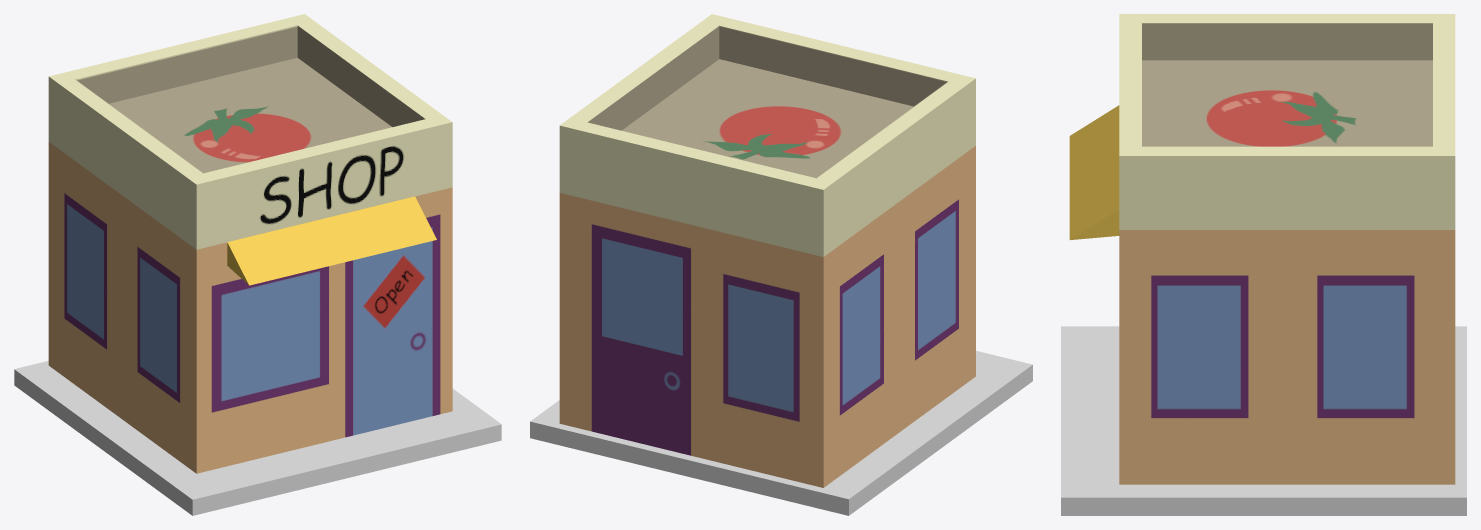
Rendered from Shop01_1.FBX.
3 renders of one model, left to right at view 1: azimuth 30°, elevation 25°; view 2: azimuth 150°, elevation 25°; view 3: azimuth 270°, elevation 25°, orthographic. The views are drawn at different scales.
Visible parts, largest first — view 1: Plane001, Box001; view 2: Plane001, Box001; view 3: Plane001, Box001.
Boxes of the visible parts, x1,y1,x2,y2 form: Plane001: (48,14,452,473); Box001: (14,361,501,515); Plane001: (559,14,975,487); Box001: (530,351,1032,515); Plane001: (1069,14,1455,484); Box001: (1061,326,1466,515).
Bounding box in the file's own units: 1 × 0.9437 × 1.
Materials: 2 (2 with a texture image).
